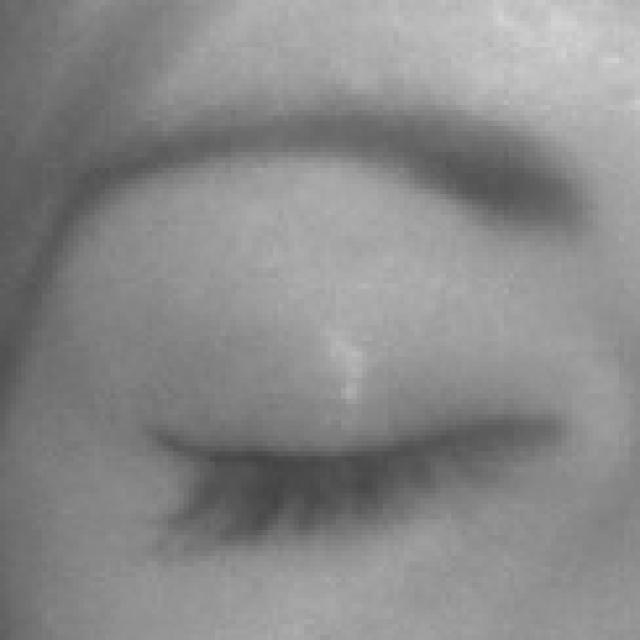Eyeclosed: (142, 254, 584, 637)
